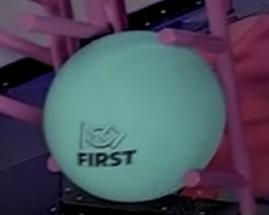algae: (43, 31, 224, 202)
